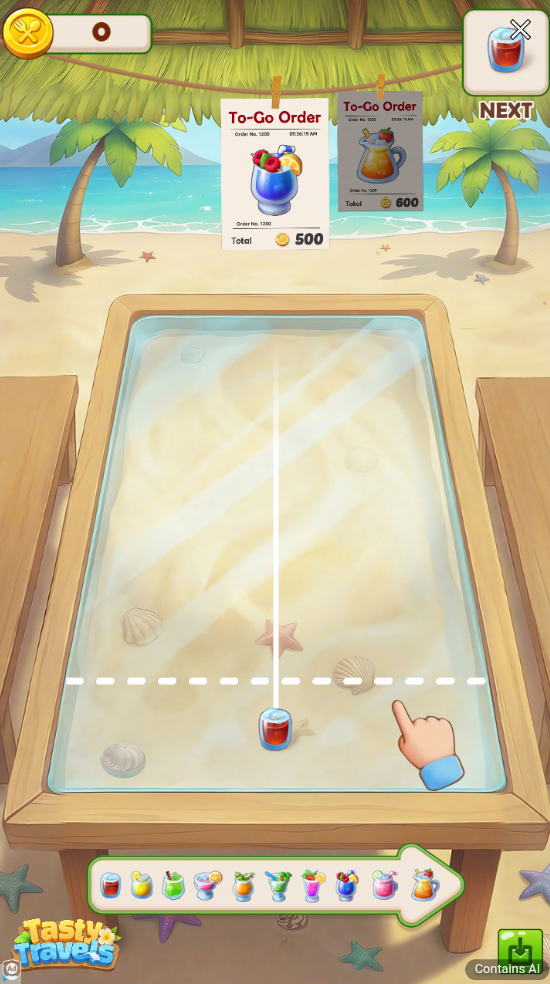close_button: (503, 16, 536, 46)
